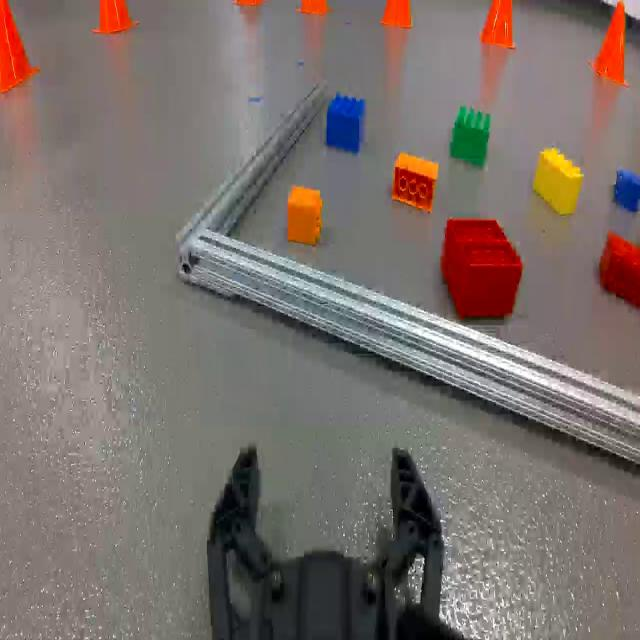block: (534, 140, 584, 222)
blue: (324, 88, 364, 156), (615, 167, 640, 214)
cone: (589, 0, 631, 94), (0, 1, 38, 99), (478, 0, 518, 52), (89, 0, 138, 37), (379, 0, 415, 34), (295, 0, 330, 20), (234, 0, 265, 11)
green: (450, 103, 494, 168)
metal barrier: (176, 81, 640, 463)
orange: (390, 153, 437, 214), (286, 186, 324, 245)
red goal: (441, 208, 525, 323), (597, 221, 640, 307)
